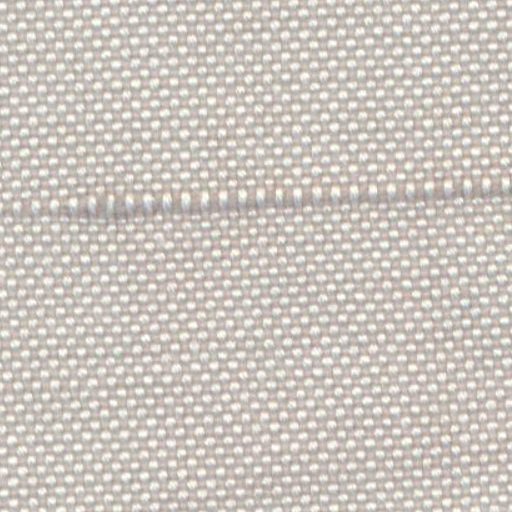DaiSha: (22, 170, 502, 231)
